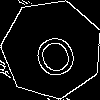O: (27, 24, 81, 82)
